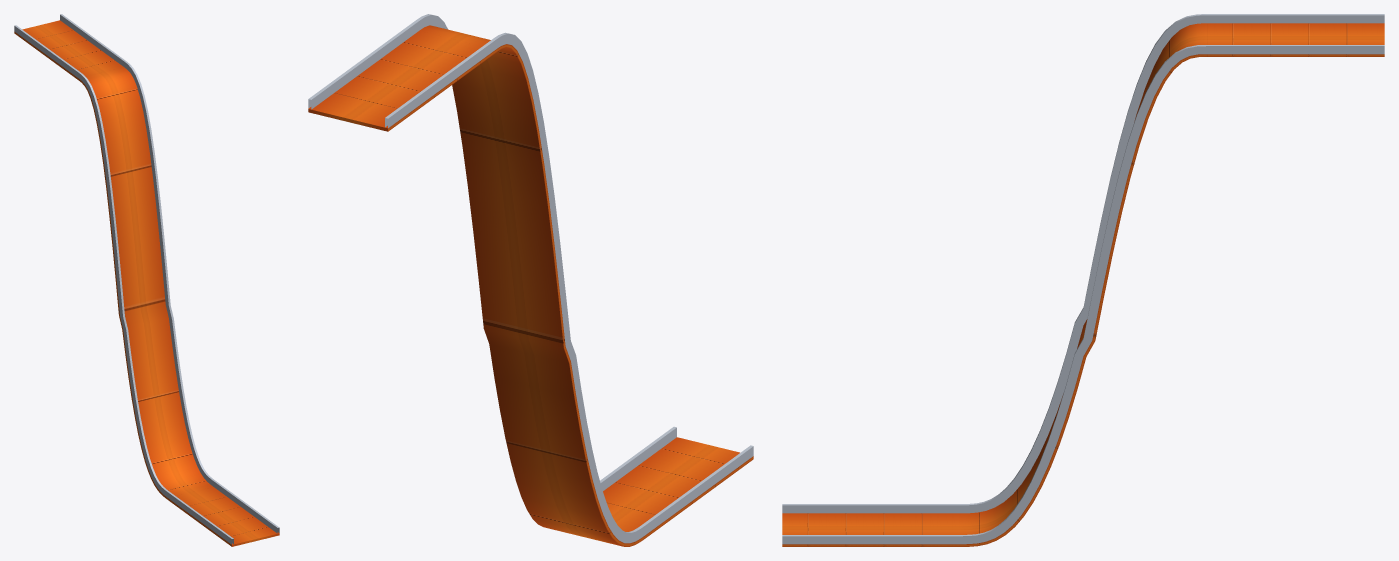
The model's file is steep-ramp-80-down.glb.
3 views of the same model, side by side, from view 1: azimuth 30°, elevation 25°; view 2: azimuth 150°, elevation 25°; view 3: azimuth 270°, elevation 25° (orthographic). The views are drawn at different scales.
Size of the model in its own units: 3 by 21.8 by 23.76.
Materials: 4 (3 with a texture image).
